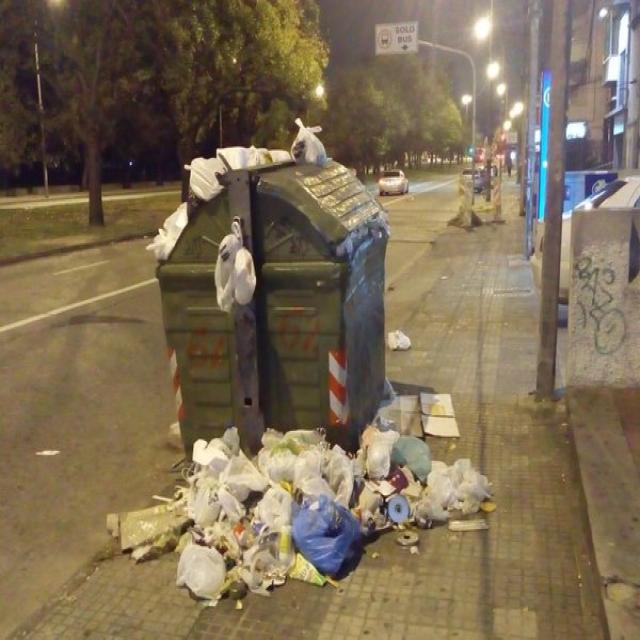garbage: (97, 426, 381, 598), (360, 380, 502, 530), (172, 132, 344, 184), (204, 218, 263, 320), (143, 200, 202, 248)
